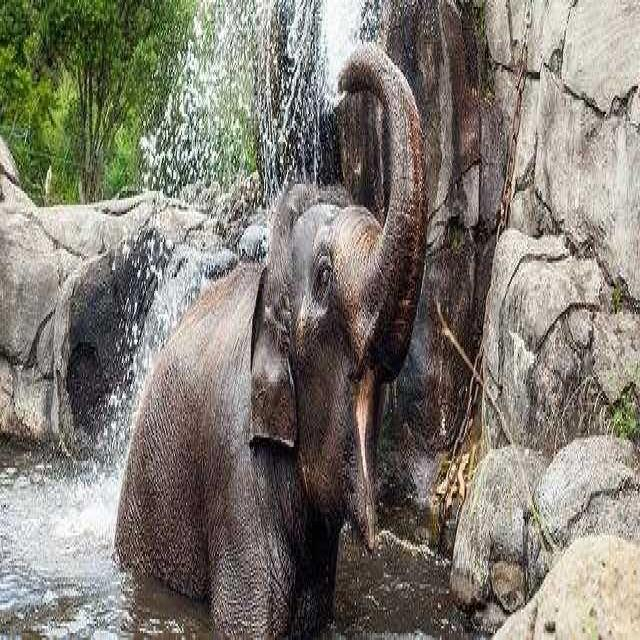Elephant: (112, 40, 427, 638)
